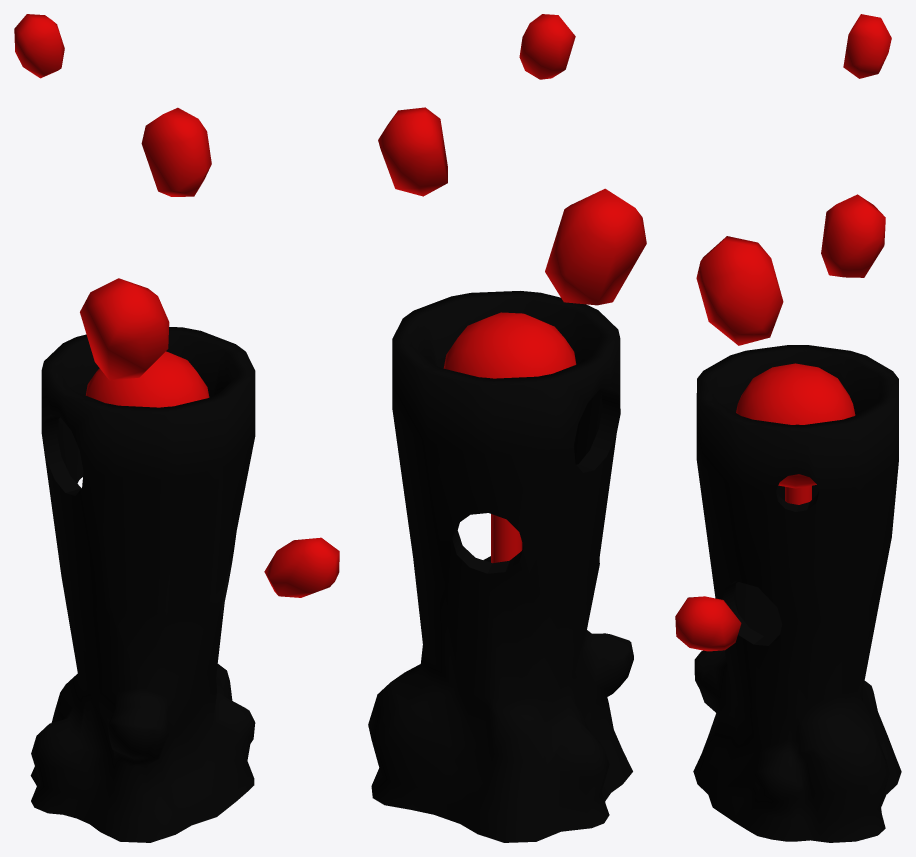
Rendered from SM_SpecialPlant_01.FBX.
The picture shows the model from 3 angles, left to right: view 1: azimuth 30°, elevation 25°; view 2: azimuth 150°, elevation 25°; view 3: azimuth 270°, elevation 25°; orthographic projection. The views are drawn at different scales.
Parts seen in each view (by area): view 1: Cylinder005; view 2: Cylinder005; view 3: Cylinder005.
Part boxes in pixels (bbox=[...]): Cylinder005: bbox=[14, 14, 339, 842]; Cylinder005: bbox=[368, 14, 646, 842]; Cylinder005: bbox=[675, 14, 901, 842].
Bounding box in the file's own units: 13.17 × 40.2 × 11.09.
